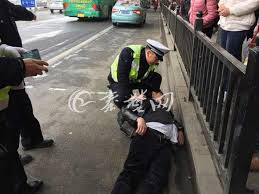fall: (85, 86, 196, 190)
